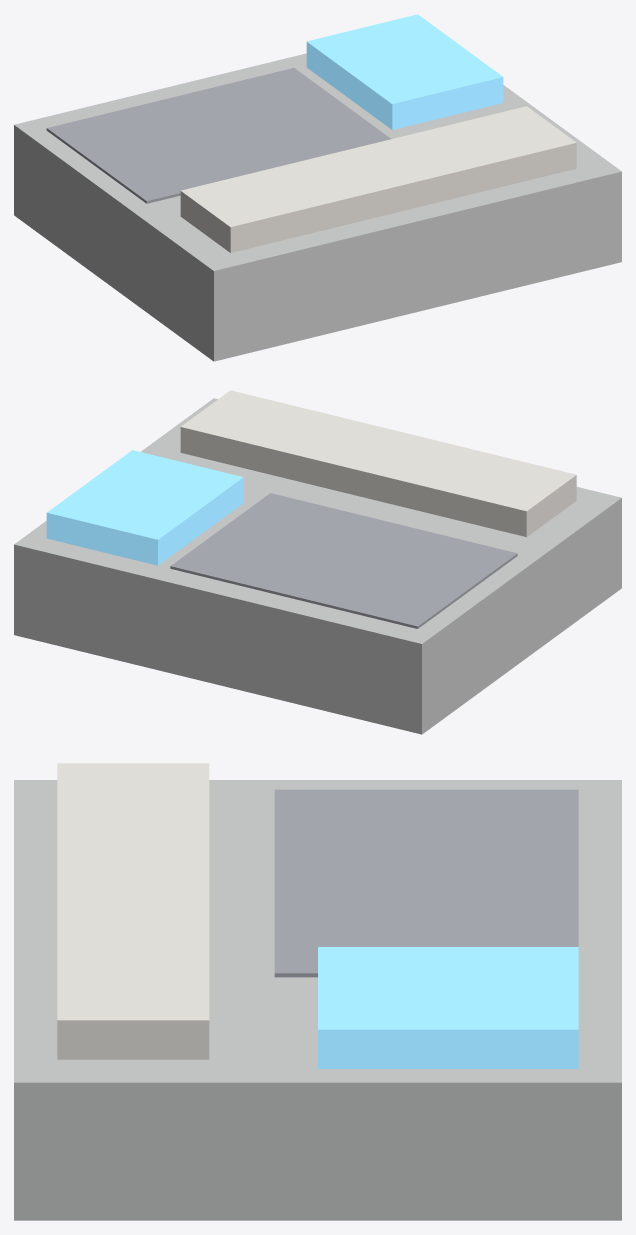
File: elektrokardiograf.glb
3 views of the same model, one above another, from view 1: azimuth 30°, elevation 25°; view 2: azimuth 150°, elevation 25°; view 3: azimuth 270°, elevation 25° (orthographic). The views are drawn at different scales.
Size of the model in its own units: 0.33 by 0.09 by 0.28.
